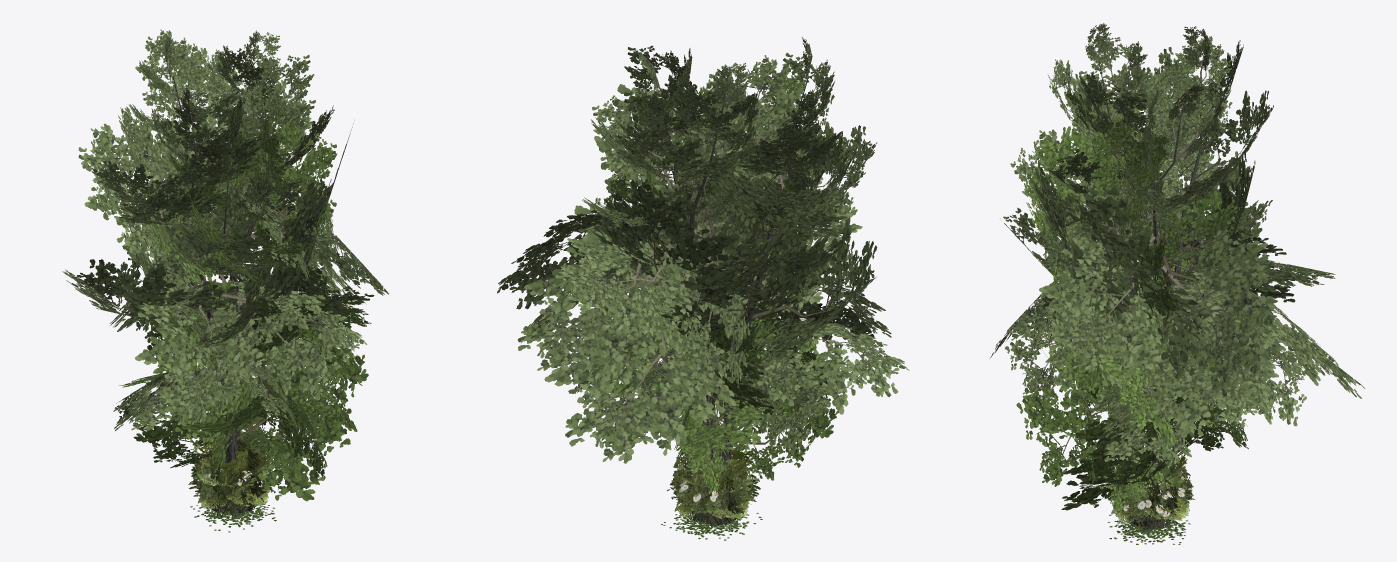
File: island_lowpoly_plants.glb
3 views of the same model, side by side, from view 1: azimuth 30°, elevation 25°; view 2: azimuth 150°, elevation 25°; view 3: azimuth 270°, elevation 25° (orthographic). The views are drawn at different scales.
Parts seen in each view (by area): view 1: CanopyA, CanopyB, ShrubA, WildFlowers, ShrubB, CloverA; view 2: CanopyA, CanopyB, ShrubA, WildFlowers, ShrubB, CloverA; view 3: CanopyA, CanopyB, WildFlowers, ShrubA, ShrubB, CloverA.
Boxes of the visible parts, x1=… form: CanopyA: x1=62, y1=29, x2=389, y2=514; CanopyB: x1=119, y1=101, x2=371, y2=511; ShrubA: x1=189, y1=435, x2=280, y2=517; WildFlowers: x1=188, y1=458, x2=275, y2=518; ShrubB: x1=191, y1=441, x2=272, y2=515; CloverA: x1=190, y1=502, x2=275, y2=532; CanopyA: x1=497, y1=37, x2=909, y2=525; CanopyB: x1=582, y1=71, x2=848, y2=520; ShrubA: x1=671, y1=443, x2=760, y2=526; WildFlowers: x1=666, y1=464, x2=758, y2=525; ShrubB: x1=672, y1=449, x2=754, y2=525; CloverA: x1=661, y1=511, x2=762, y2=540; CanopyA: x1=990, y1=23, x2=1364, y2=531; CanopyB: x1=1016, y1=89, x2=1280, y2=526; WildFlowers: x1=1112, y1=471, x2=1194, y2=530; ShrubA: x1=1108, y1=454, x2=1193, y2=528; ShrubB: x1=1114, y1=460, x2=1192, y2=531; CloverA: x1=1108, y1=510, x2=1190, y2=544.
Size of the model in its own units: 3.36 by 4.4 by 3.4.
2 materials, 2 textured.
